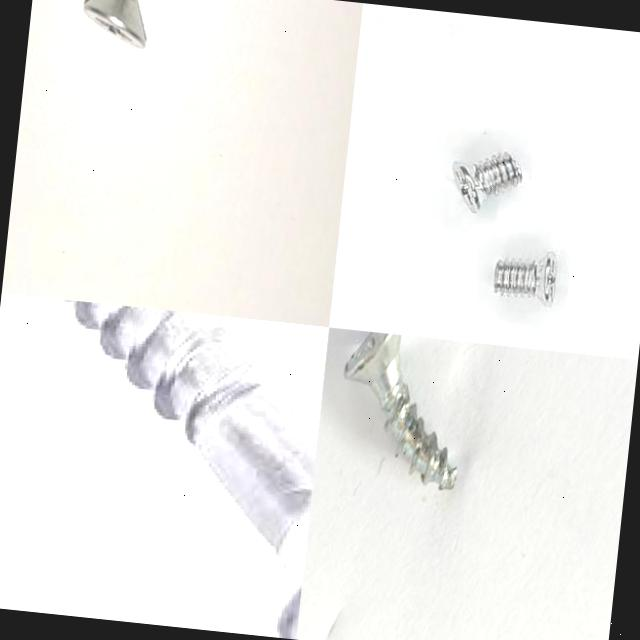Screw: (64, 299, 317, 639), (344, 332, 456, 491), (451, 151, 522, 213), (492, 251, 556, 307), (83, 0, 146, 50)
